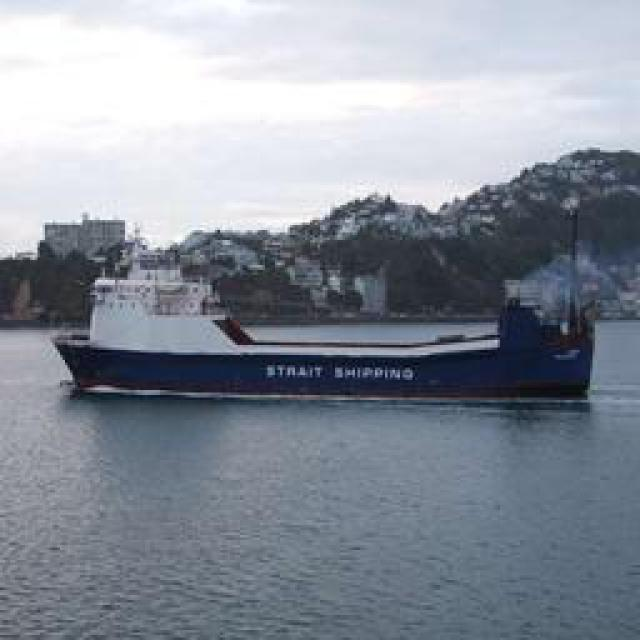Ship: (52, 251, 625, 406)
